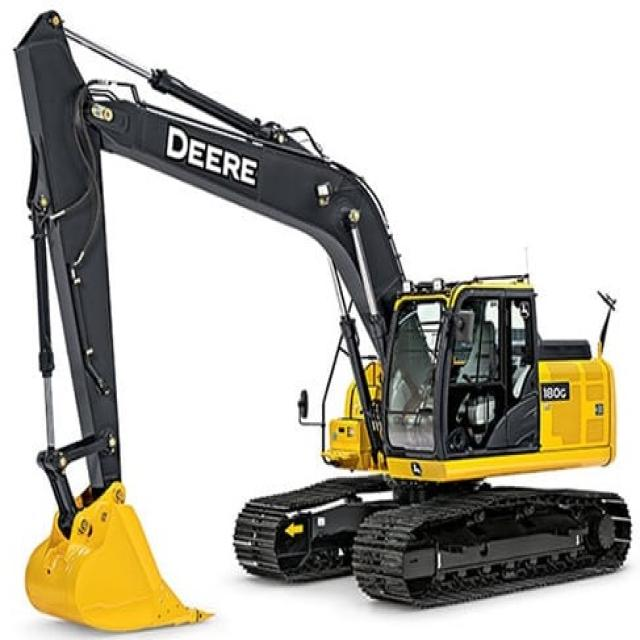excavator: (296, 265, 629, 540)
